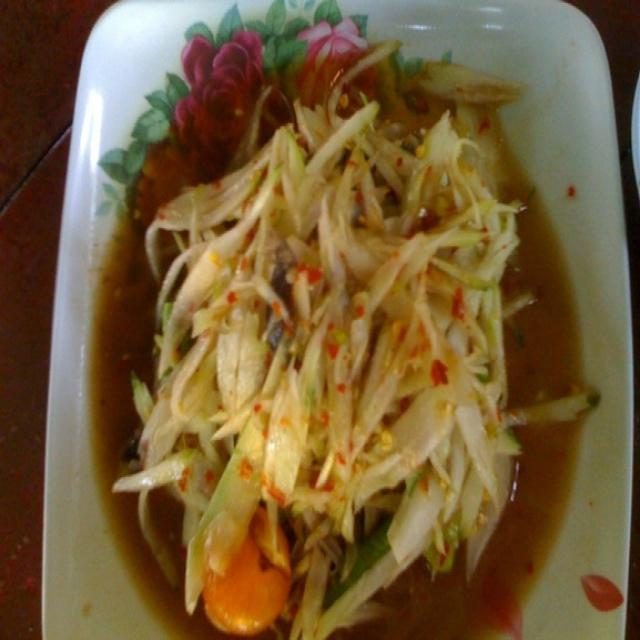蔬菜料理: (76, 40, 602, 615)
